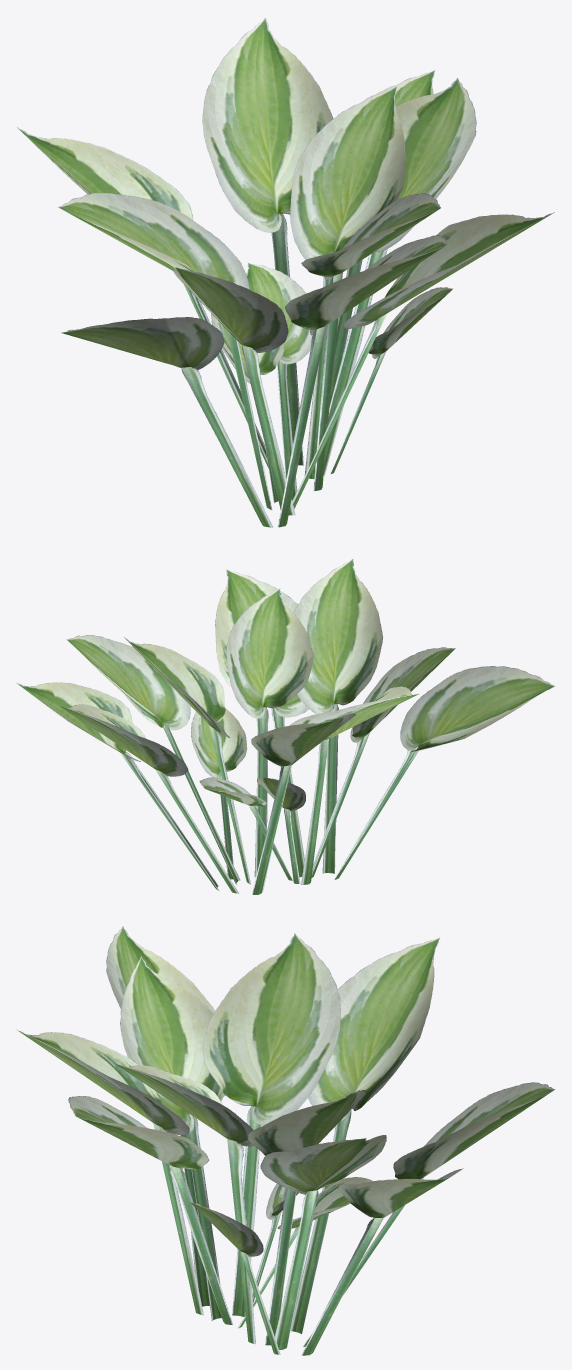
File: plant_small_wg_02O.fbx
3 renders of one model, top to bottom at view 1: azimuth 30°, elevation 25°; view 2: azimuth 150°, elevation 25°; view 3: azimuth 270°, elevation 25°, orthographic. The views are drawn at different scales.
Visible parts, largest first — view 1: plant_small_wg_02O; view 2: plant_small_wg_02O; view 3: plant_small_wg_02O.
Boxes of the visible parts, box(x1,y1,x2,y2) form: plant_small_wg_02O: box(17, 17, 554, 527); plant_small_wg_02O: box(16, 559, 554, 894); plant_small_wg_02O: box(16, 926, 555, 1355).
Size of the model in its own units: 83.19 by 48.45 by 75.82.
